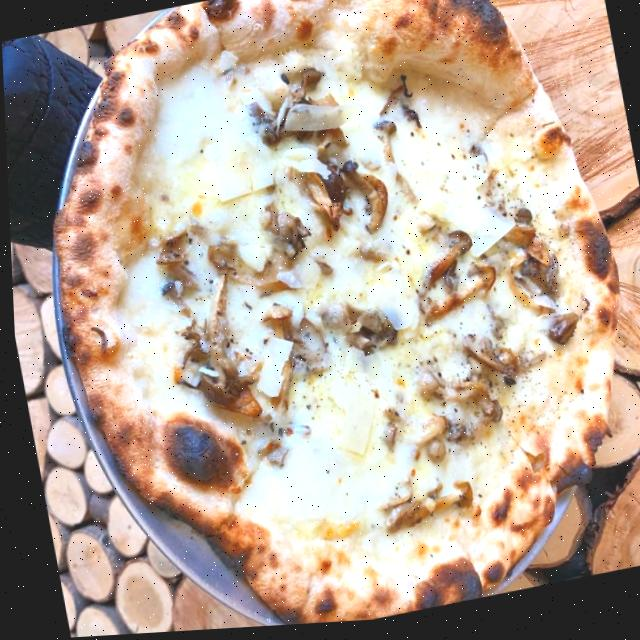pizza: (10, 0, 640, 640)
